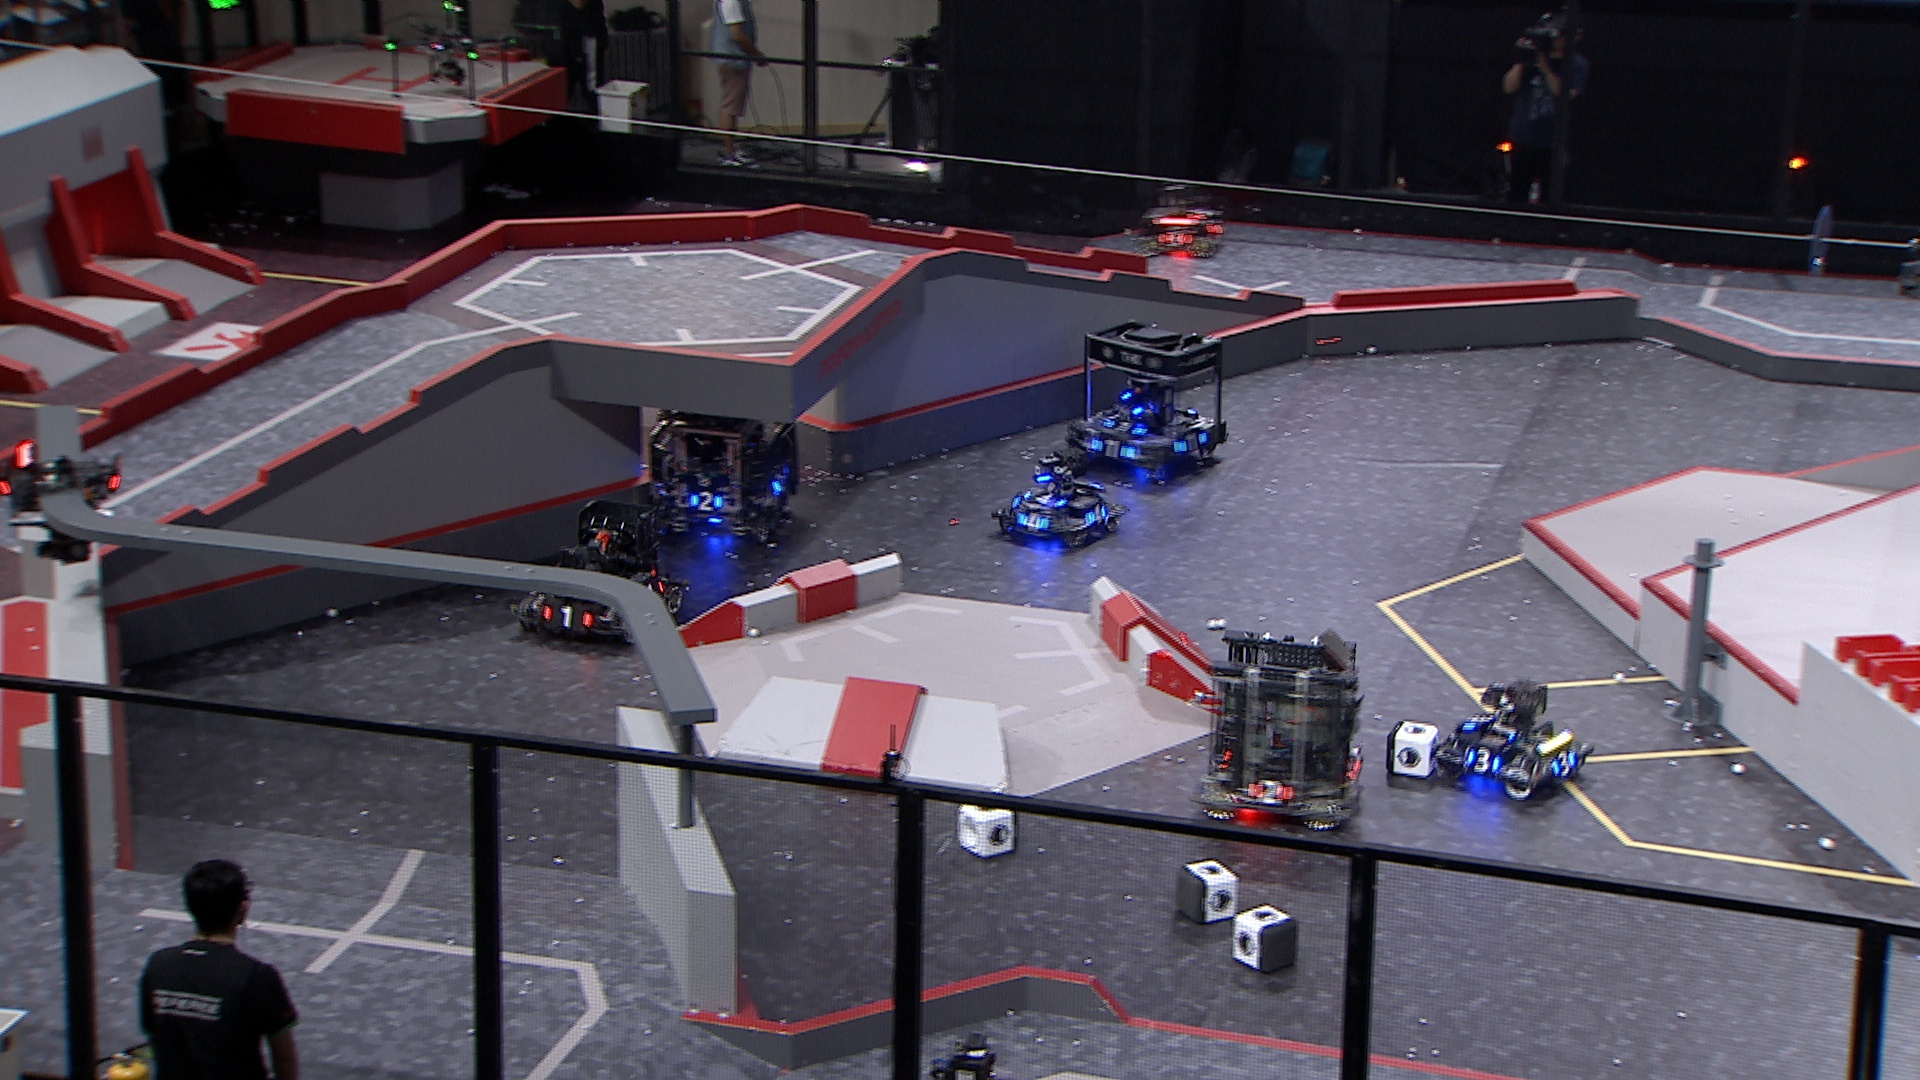armor: (1247, 775, 1302, 808), (539, 603, 596, 632), (1462, 746, 1505, 777), (1092, 436, 1139, 462), (1022, 488, 1068, 510), (1105, 417, 1149, 436), (688, 488, 723, 513), (1551, 746, 1576, 781), (1174, 433, 1207, 458), (1155, 229, 1196, 249), (1460, 713, 1494, 735), (1017, 513, 1048, 534), (1084, 504, 1112, 526), (771, 473, 790, 495)
car: (1193, 626, 1367, 829), (1067, 319, 1233, 484), (512, 495, 690, 645), (646, 392, 803, 547), (1433, 676, 1596, 800), (992, 448, 1135, 551), (1135, 179, 1228, 261), (889, 1030, 1030, 1080)
